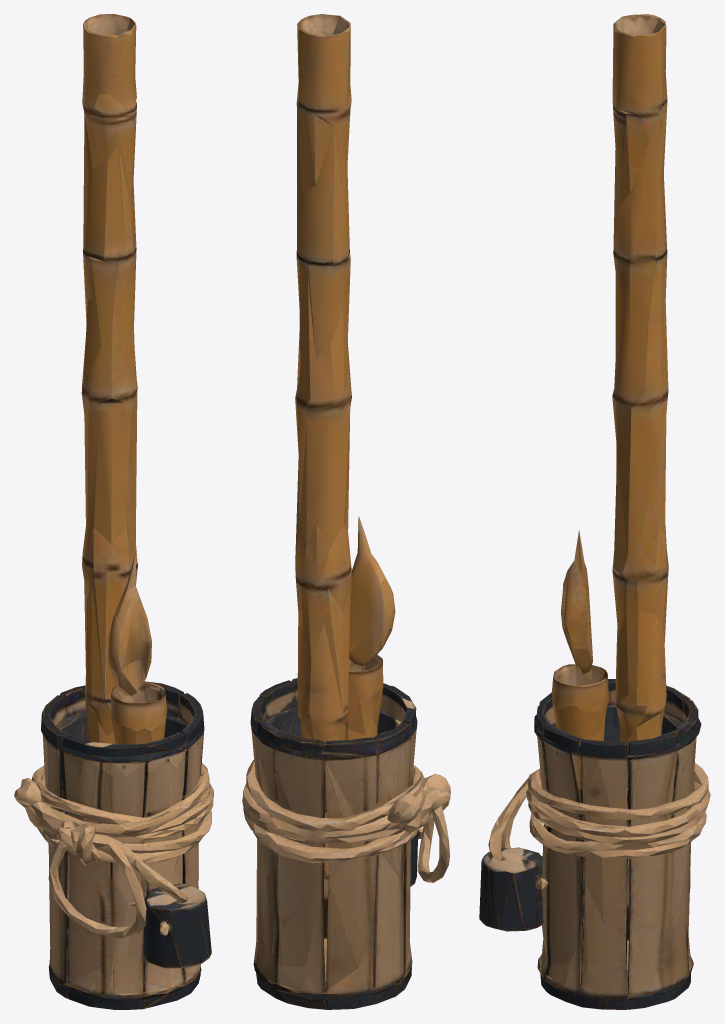
File: tiki-torch.glb
3 views of the same model, side by side, from view 1: azimuth 30°, elevation 25°; view 2: azimuth 150°, elevation 25°; view 3: azimuth 270°, elevation 25° (orthographic).
Size of the model in its own units: 0.3668 by 1.9 by 0.4186.
Materials: 1 (1 with a texture image).
